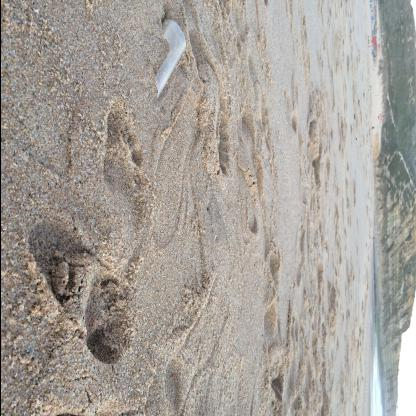plastik: (154, 18, 185, 98)
